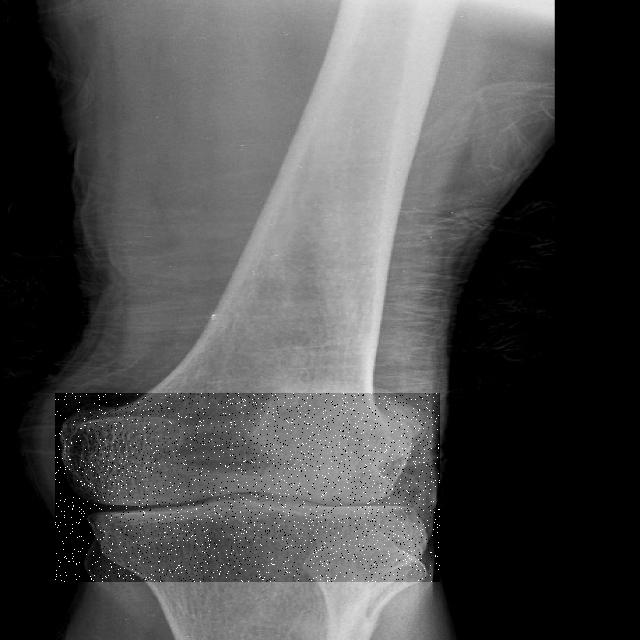osteo: (55, 393, 440, 582)
